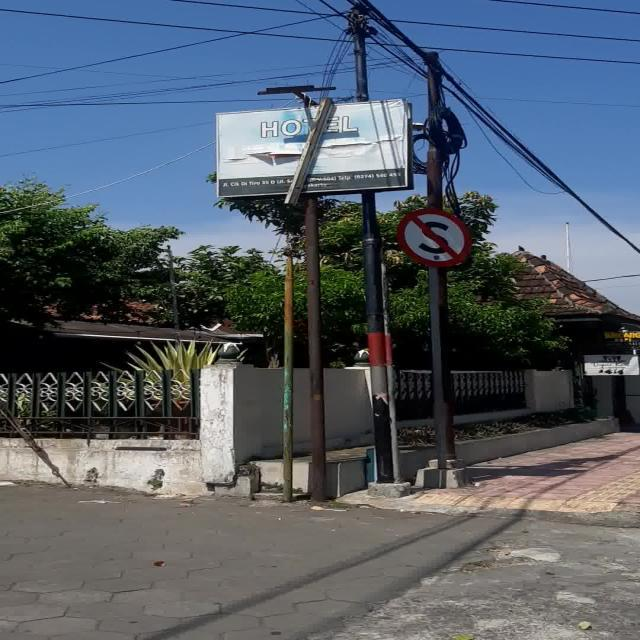Dilarang Berhenti: (398, 208, 470, 268)
